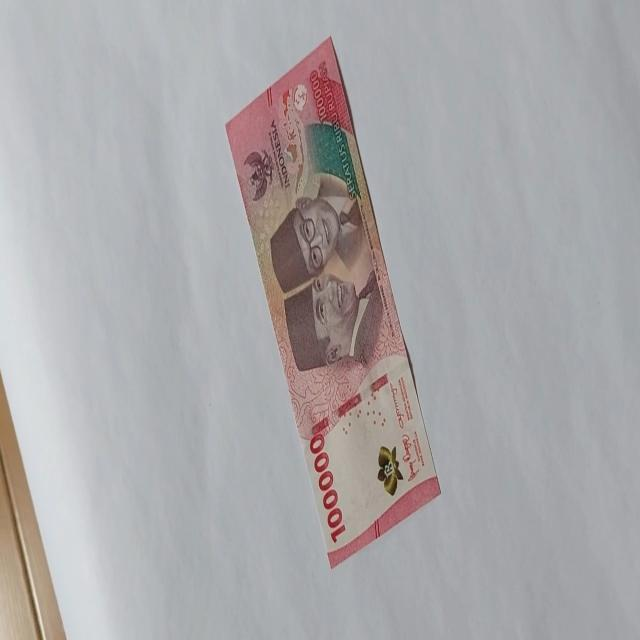seratus ribu rupiah: (224, 34, 442, 568)
